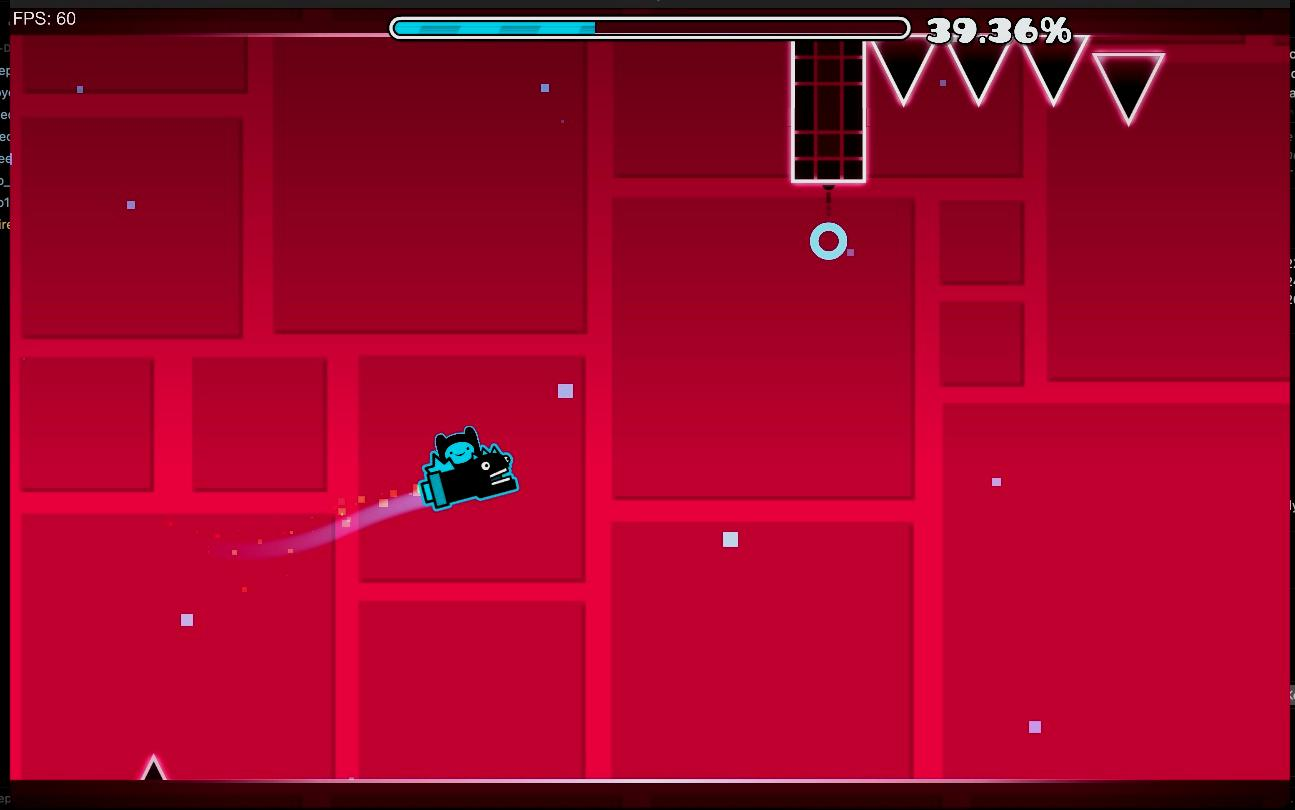block: (793, 40, 867, 183)
spaceship: (420, 426, 517, 509)
spike: (1020, 34, 1164, 123), (873, 36, 1015, 105), (142, 757, 164, 779)
